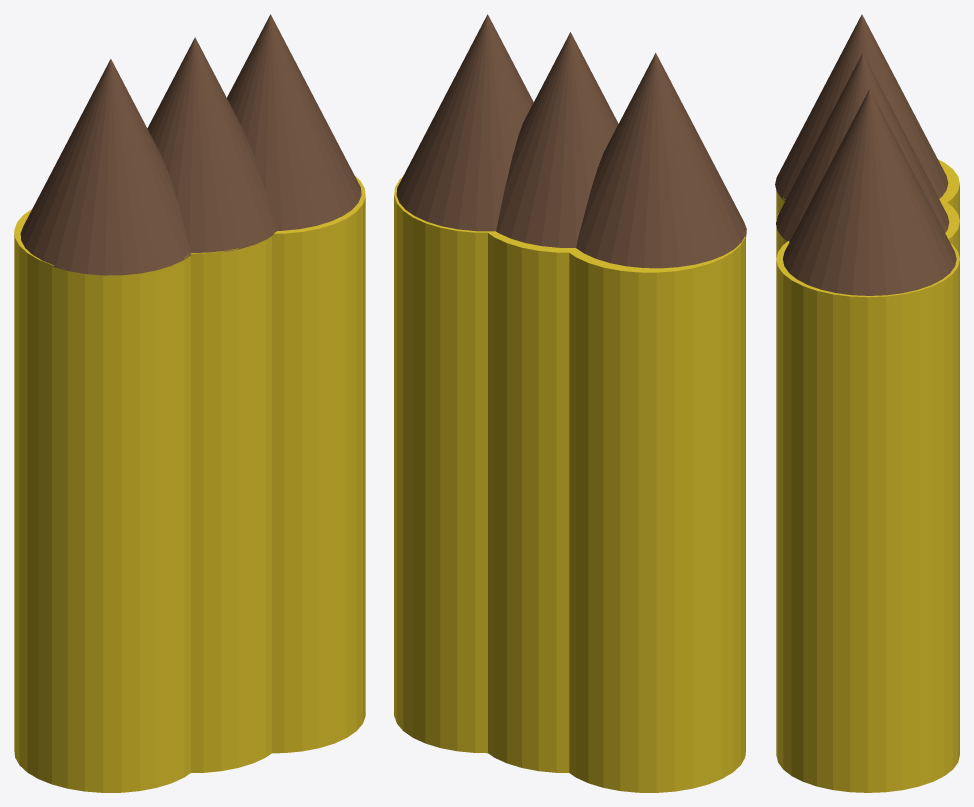
Rendered from TriggerFinger.fbx.
3 views of the same model, side by side, from view 1: azimuth 30°, elevation 25°; view 2: azimuth 150°, elevation 25°; view 3: azimuth 270°, elevation 25° (orthographic). The views are drawn at different scales.
Parts seen in each view (by area): view 1: Cylinder, Cylinder.002, Cylinder.001, Cone, Cone.002, Cone.001; view 2: Cylinder, Cylinder.002, Cylinder.001, Cone, Cone.001, Cone.002; view 3: Cylinder.002, Cone.001, Cone, Cone.002, Cylinder, Cylinder.001.
Part boxes in pixels (x1,y1,x2,y2): Cylinder: (14,209,190,792); Cylinder.002: (272,176,365,753); Cylinder.001: (190,236,271,772); Cone: (20,59,191,275); Cone.002: (147,37,276,252); Cone.001: (227,14,361,230); Cylinder: (566,236,745,792); Cylinder.002: (394,177,487,753); Cylinder.001: (486,231,578,772); Cone: (576,53,746,268); Cone.001: (396,14,533,231); Cone.002: (496,32,618,247); Cylinder.002: (776,241,959,792); Cone.001: (782,89,956,295); Cone: (775,14,948,200); Cone.002: (776,53,949,241); Cylinder: (776,159,959,220); Cylinder.001: (776,198,959,258).
Size of the model in its own units: 131 by 269 by 67.62.
